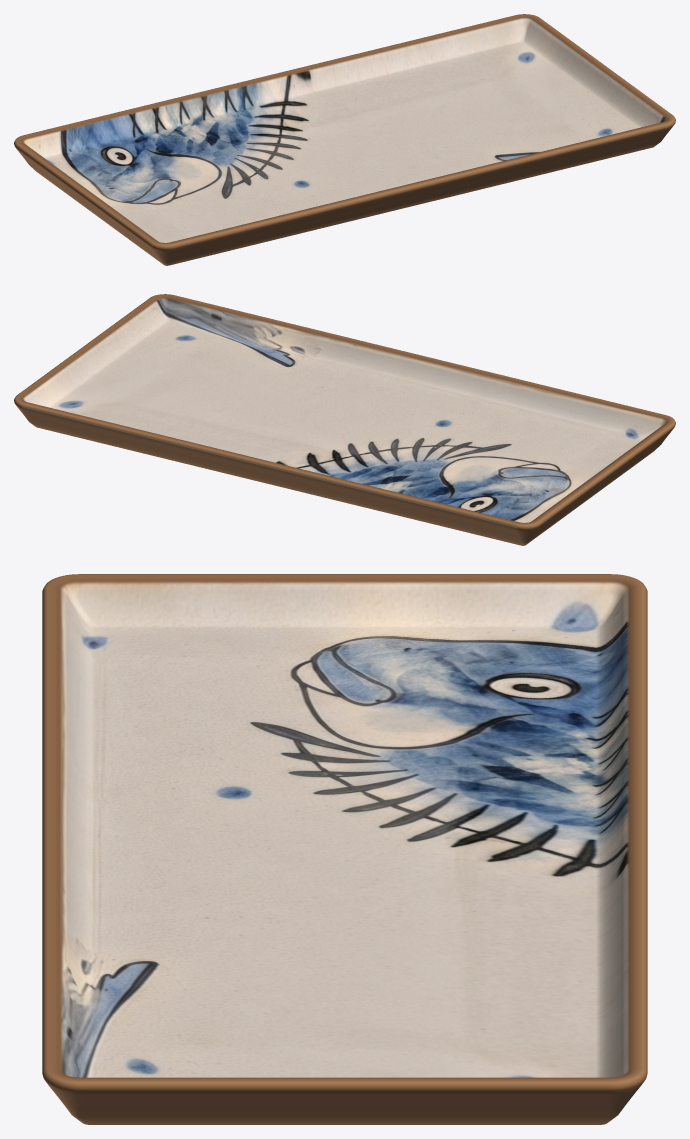
Rendered from plate_bluefish.glb.
3 renders of one model, top to bottom at view 1: azimuth 30°, elevation 25°; view 2: azimuth 150°, elevation 25°; view 3: azimuth 270°, elevation 25°, orthographic. The views are drawn at different scales.
Visible parts, largest first — view 1: toro_bluefish_plate; view 2: toro_bluefish_plate; view 3: toro_bluefish_plate.
Part boxes in pixels (x1,y1,x2,y2): toro_bluefish_plate: (14, 14, 675, 265); toro_bluefish_plate: (14, 294, 675, 545); toro_bluefish_plate: (42, 574, 647, 1124).
Bounding box in the file's own units: 0.26 × 0.0155 × 0.13.
1 material, 1 textured.
